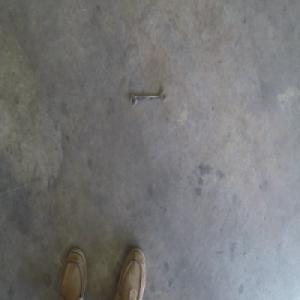Wrench: (129, 90, 166, 106)
